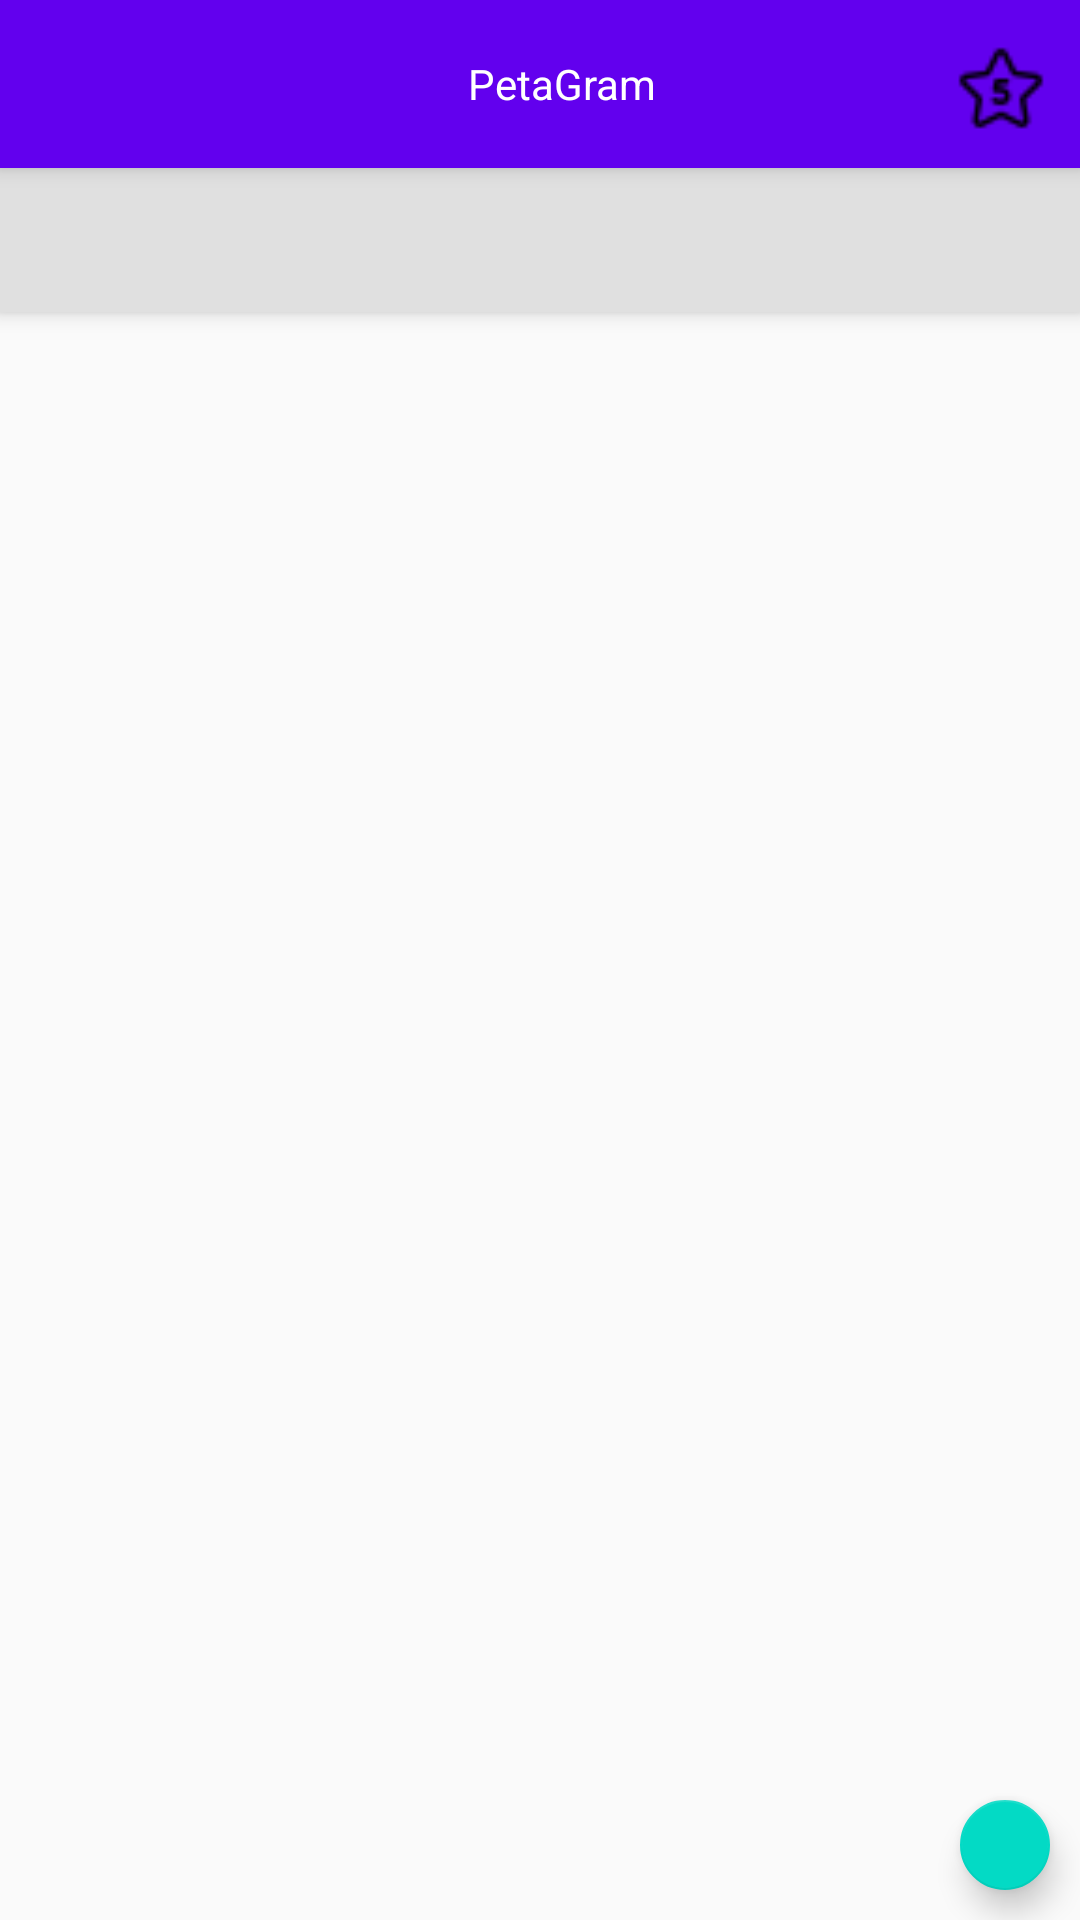

Locate icon controls on the screen. Image size 1080*1920, boxes as (x1, y1, x2, y2).
star: (958, 47, 1044, 129)
